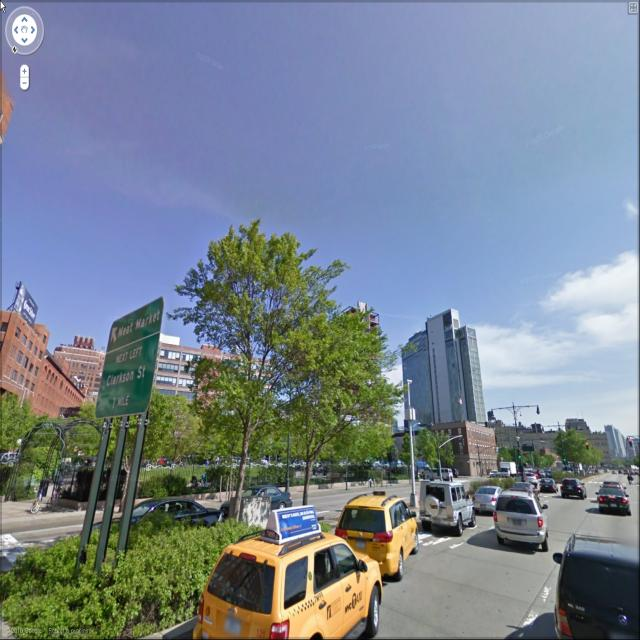b_1: (401, 301, 485, 426), (0, 278, 78, 412), (561, 406, 636, 466)
b_2: (130, 324, 328, 432)
